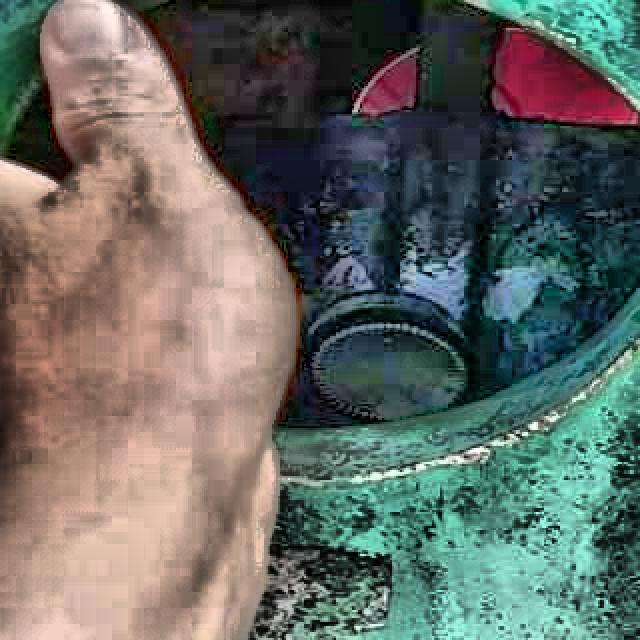glass: (309, 295, 469, 423)
